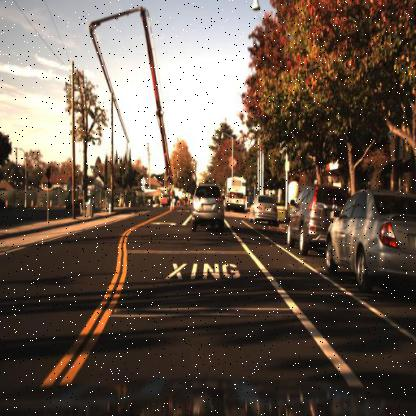car: (324, 171, 415, 294), (286, 170, 327, 260), (186, 182, 226, 232), (250, 193, 278, 224)
truck: (87, 6, 176, 210), (223, 171, 247, 212)
